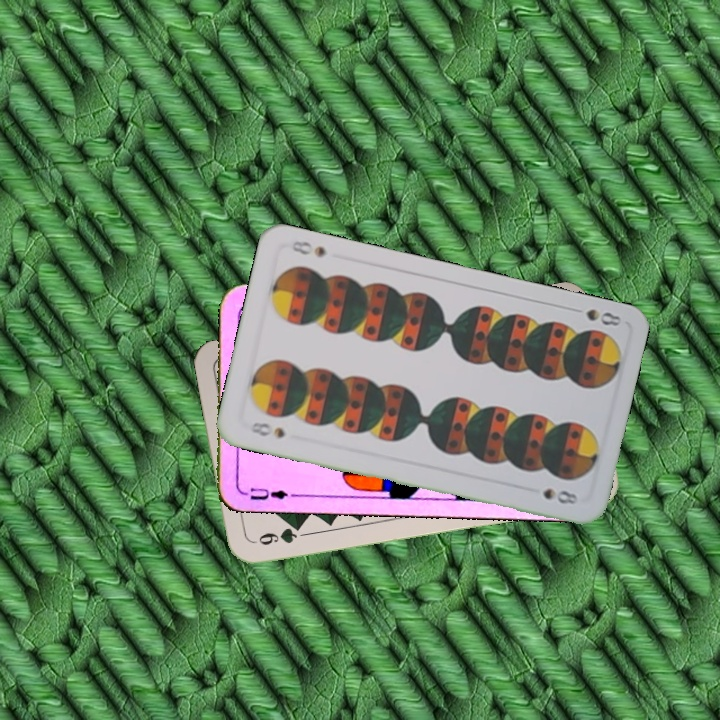EU: (238, 483, 290, 503)
G9: (254, 521, 306, 548)
S8: (566, 303, 624, 329), (245, 417, 288, 441)
